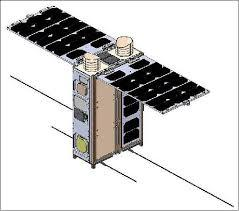antenna: (129, 147, 236, 209), (8, 72, 72, 111), (100, 161, 138, 184), (50, 125, 74, 141)
body: (70, 33, 147, 170)
solar: (105, 57, 210, 114), (9, 6, 112, 62), (121, 113, 142, 148), (121, 93, 142, 119)
